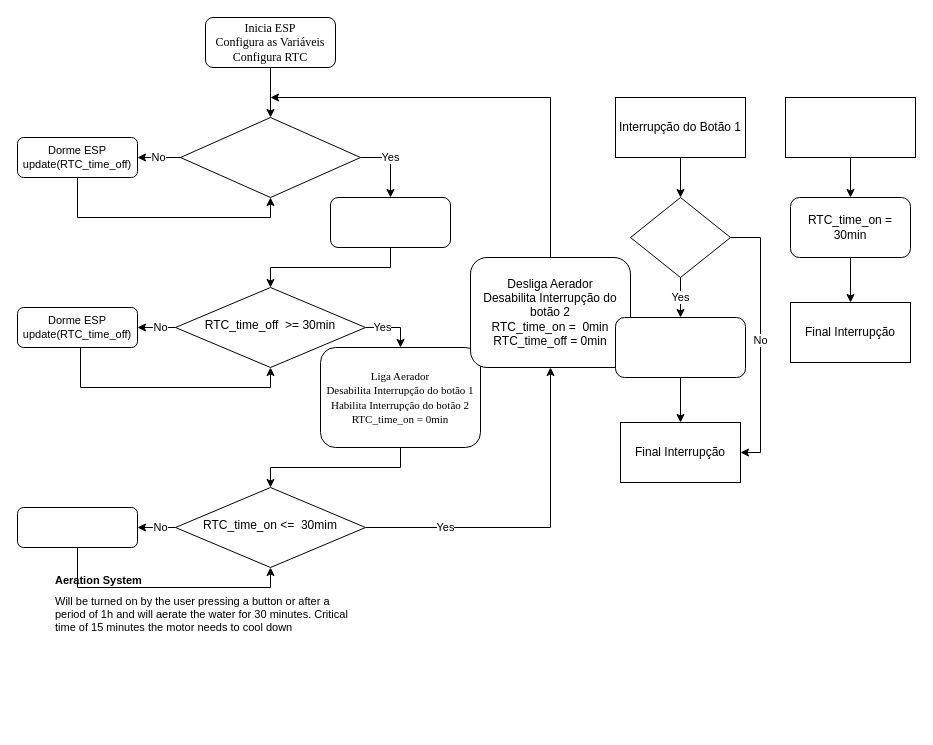
Some shapes in this 933 by 745 pixel diagram are drawn without their labels. Here are the shapes that lost their labels. From the top down, the centre of each, then its label:
At (x=850, y=127): "Interrupção do Botão 2".
At (x=270, y=157): "RTC_time_off >= 15min".
At (x=390, y=222): "Habilita Interrupção do botão 1".
At (x=680, y=237): "Enable Interruption button?".
At (x=680, y=347): "RTC_time_off = 30min".
At (x=77, y=527): "Dorme ESP update(RTC_time_on)".
